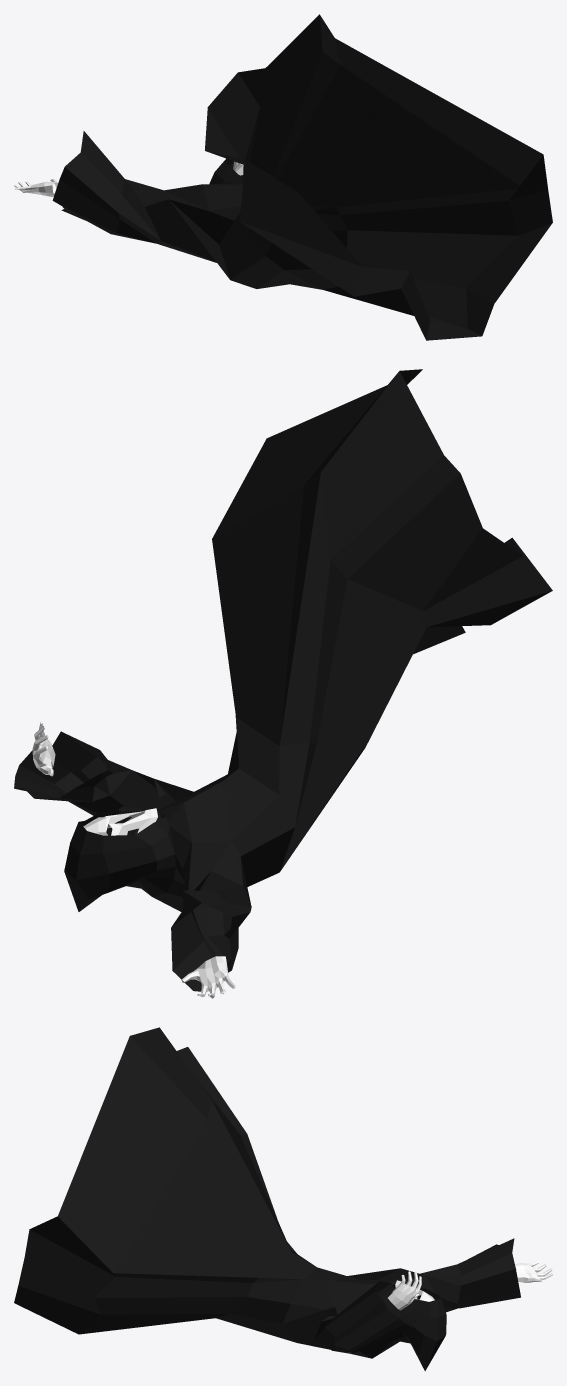
File: ReaperDead(77).obj
3 renders of one model, top to bottom at view 1: azimuth 30°, elevation 25°; view 2: azimuth 150°, elevation 25°; view 3: azimuth 270°, elevation 25°, orthographic. The views are drawn at different scales.
Visible parts, largest first — view 1: Plane003; view 2: Plane003; view 3: Plane003.
Boxes of the visible parts, x1,y1,x2,y2 form: Plane003: (14,14,552,340); Plane003: (14,369,552,998); Plane003: (14,1027,552,1371).
Size of the model in its own units: 137 by 162 by 261.
